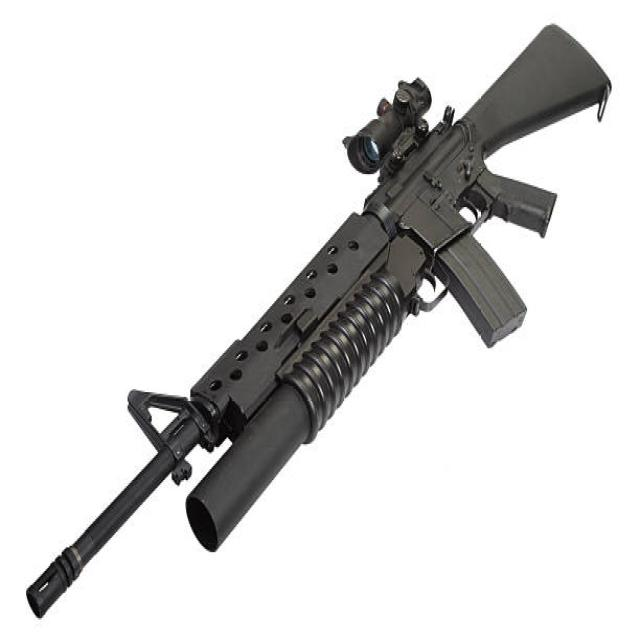rifle: (12, 17, 615, 626)
